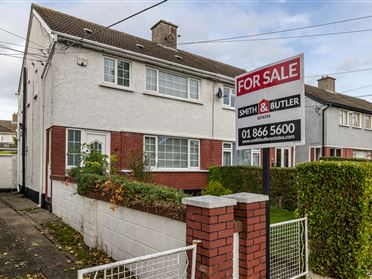property sign: (226, 50, 319, 156)
